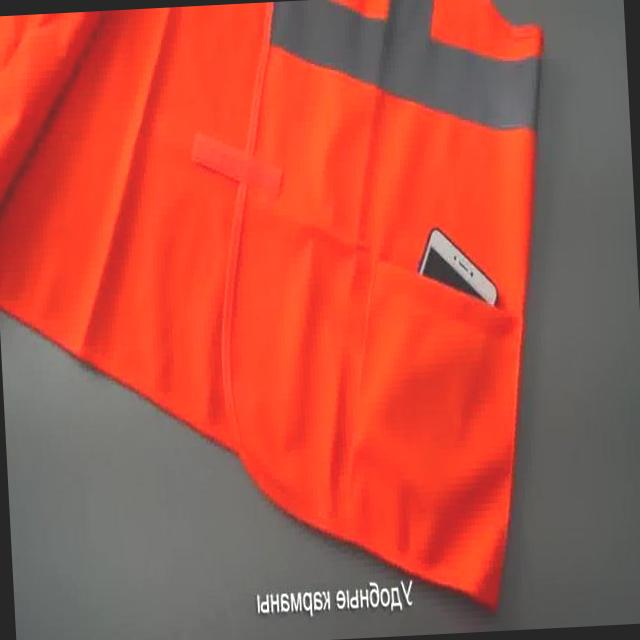vest: (0, 0, 577, 633)
